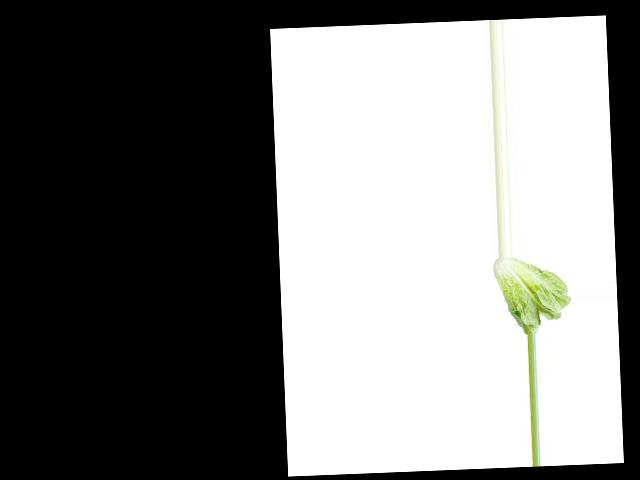lettuce: (492, 256, 573, 334)
